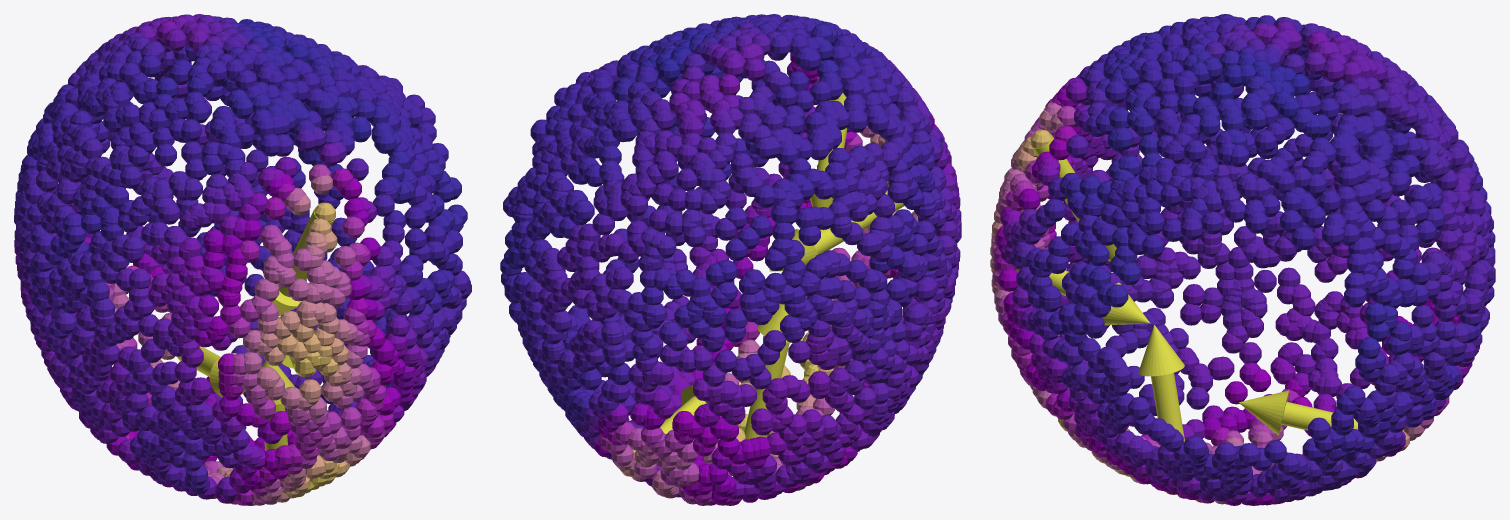
The model's file is pred_heatmap_1.glb.
3 renders of one model, left to right at view 1: azimuth 30°, elevation 25°; view 2: azimuth 150°, elevation 25°; view 3: azimuth 270°, elevation 25°, orthographic.
Visible parts, largest first — view 1: world; view 2: world; view 3: world.
Part boxes in pixels (x1,y1,x2,y2): world: (14, 14, 471, 505); world: (500, 14, 961, 505); world: (990, 14, 1495, 505).
Size of the model in its own units: 1.06 by 1.29 by 1.29.
